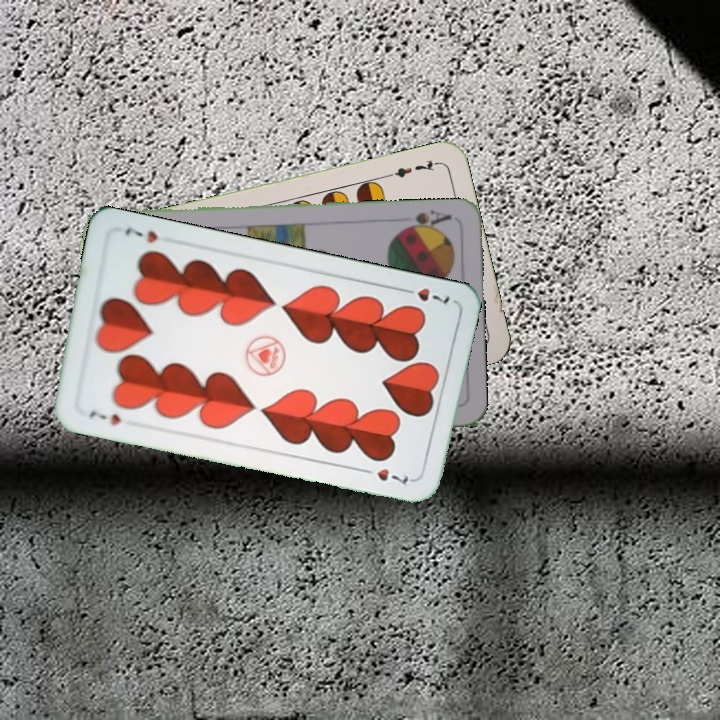E7: (383, 155, 441, 180)
H7: (397, 283, 453, 307), (85, 405, 124, 428)
SA: (397, 206, 454, 234)
